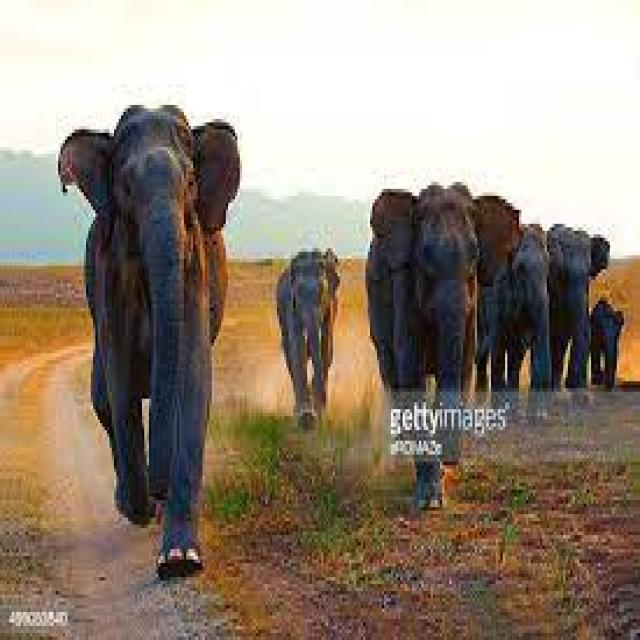Elephant: (56, 81, 231, 599), (368, 170, 505, 506), (270, 232, 348, 437), (548, 212, 612, 404), (511, 221, 550, 436), (588, 276, 635, 422)
